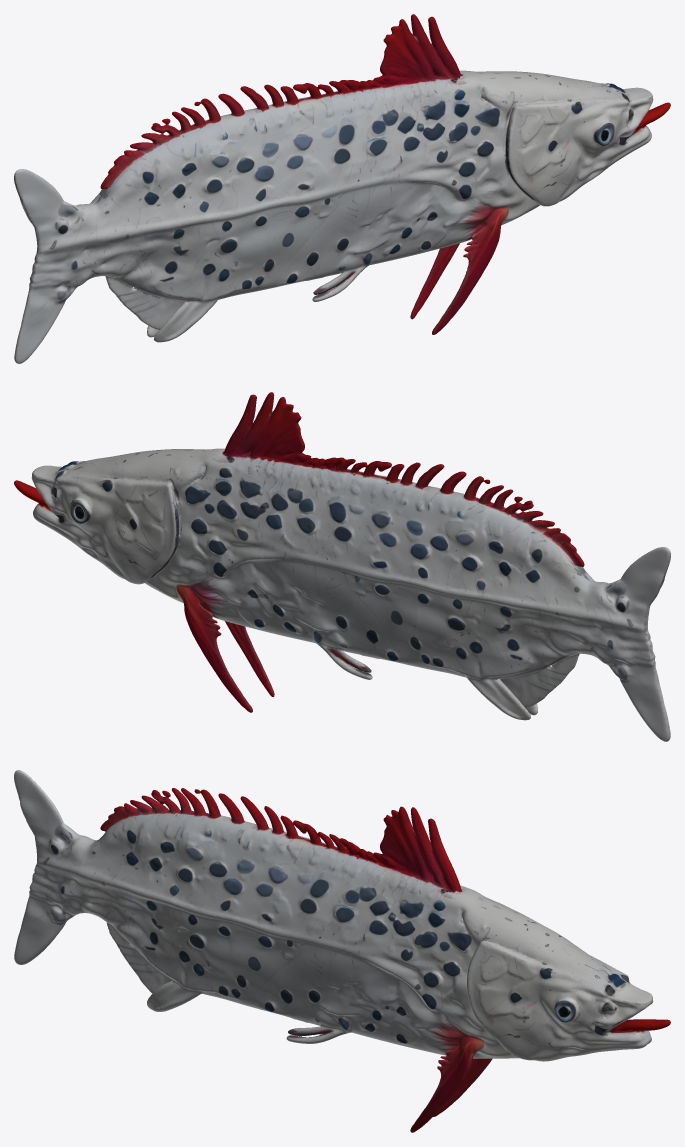
The model's file is oar_a.glb.
The picture shows the model from 3 angles, top to bottom: view 1: azimuth 30°, elevation 25°; view 2: azimuth 150°, elevation 25°; view 3: azimuth 330°, elevation 25°; orthographic projection.
Parts seen in each view (by area): view 1: tripo_node_442805a6-529e-45b3-b7c4-5a774e326e55; view 2: tripo_node_442805a6-529e-45b3-b7c4-5a774e326e55; view 3: tripo_node_442805a6-529e-45b3-b7c4-5a774e326e55.
Boxes of the visible parts, x1,y1,x2,y2 form: tripo_node_442805a6-529e-45b3-b7c4-5a774e326e55: [14, 14, 670, 363]; tripo_node_442805a6-529e-45b3-b7c4-5a774e326e55: [14, 392, 670, 741]; tripo_node_442805a6-529e-45b3-b7c4-5a774e326e55: [14, 770, 670, 1132].
Size of the model in its own units: 1 by 0.4588 by 0.1154.
Materials: 1 (1 with a texture image).
